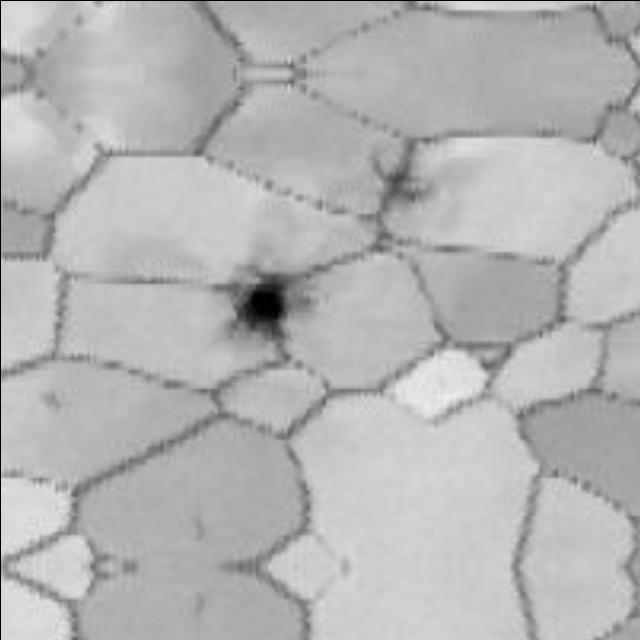good_void: (221, 264, 298, 344), (360, 159, 431, 213), (34, 387, 72, 422)
